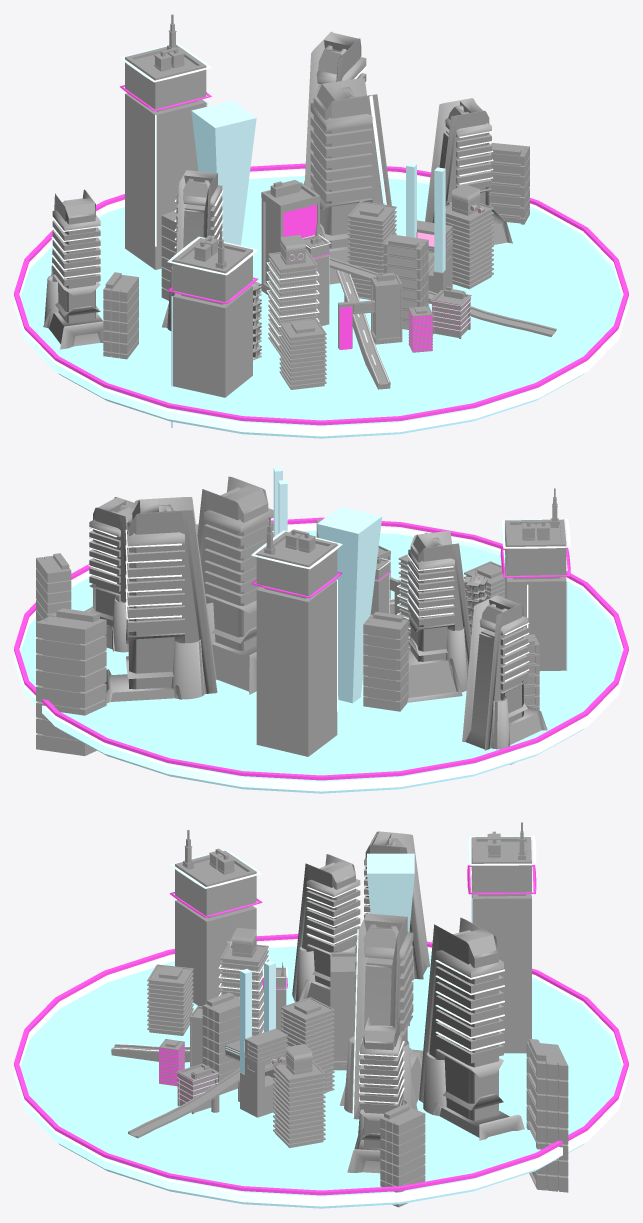
File: home.gltf
3 renders of one model, top to bottom at view 1: azimuth 30°, elevation 25°; view 2: azimuth 150°, elevation 25°; view 3: azimuth 270°, elevation 25°, orthographic.
Visible parts, largest first — view 1: polySurface4422, pasted__polySurface4374, pasted__pasted__polySurface4374, polySurface4377, polySurface4423, pasted__polySurface4391.001, pasted__polySurface4423, pCube5, pasted__polySurface4391, pasted__polySurface4378, polySurface4378, polySurface4391.001 (+20 smaller); view 2: polySurface4422, pasted__polySurface4374, pasted__pasted__polySurface4391.001, polySurface4377, polySurface4391.001, pasted__polySurface4391.001, polySurface4423, pasted__pasted__pasted__group5_pasted__pasted__pasted___d2c9, pasted__pasted__polySurface4374, pCube5, pasted__polySurface4423, pasted__polySurface4391 (+9 smaller); view 3: polySurface4422, pasted__pasted__polySurface4391.001, pasted__polySurface4374, polySurface4423, pasted__pasted__polySurface4374, polySurface4377, polySurface4391.001, pasted__polySurface4423, pasted__pasted__pasted__group5_pasted__pasted__pasted___d2c9, pasted__polySurface4391, pasted__polySurface4378, pasted__pasted__group5_pasted__pasted__pasted__pasted___8b89 (+16 smaller).
Part boxes in pixels (x1,y1,x2,y2): polySurface4422: (20, 176, 622, 438); pasted__polySurface4374: (125, 14, 206, 269); pasted__pasted__polySurface4374: (172, 230, 252, 397); polySurface4377: (310, 78, 395, 284); polySurface4423: (14, 169, 628, 436); pasted__polySurface4391.001: (43, 189, 103, 349); pasted__polySurface4423: (14, 163, 628, 425); pCube5: (191, 100, 256, 245); pasted__polySurface4391: (425, 98, 512, 244); pasted__polySurface4378: (445, 184, 493, 289); polySurface4378: (268, 234, 317, 353); polySurface4391.001: (162, 170, 222, 330); polySurface4422: (20, 530, 622, 793); pasted__polySurface4374: (256, 516, 337, 756); pasted__pasted__polySurface4391.001: (104, 497, 217, 703); polySurface4377: (197, 476, 273, 694); polySurface4391.001: (407, 531, 471, 702); pasted__polySurface4391.001: (462, 595, 547, 764); polySurface4423: (14, 524, 628, 791); pasted__pasted__pasted__group5_pasted__pasted__pasted___d2c9: (36, 608, 106, 755); pasted__pasted__polySurface4374: (505, 488, 566, 670); pCube5: (317, 506, 382, 703); pasted__polySurface4423: (14, 517, 628, 780); pasted__polySurface4391: (85, 497, 134, 652); polySurface4422: (20, 946, 622, 1208); pasted__pasted__polySurface4391.001: (419, 917, 524, 1140); pasted__polySurface4374: (471, 822, 531, 1053); polySurface4423: (14, 940, 628, 1206); pasted__pasted__polySurface4374: (175, 829, 256, 1006); polySurface4377: (339, 913, 423, 1119); polySurface4391.001: (292, 854, 360, 1006); pasted__polySurface4423: (14, 934, 628, 1195); pasted__pasted__pasted__group5_pasted__pasted__pasted___d2c9: (526, 1039, 568, 1192); pasted__polySurface4391: (347, 1017, 407, 1173); pasted__polySurface4378: (273, 1044, 325, 1147); pasted__pasted__group5_pasted__pasted__pasted__pasted___8b89: (380, 1104, 425, 1207).
Bounding box in the file's own units: 0.6519 × 0.3135 × 0.6519.
